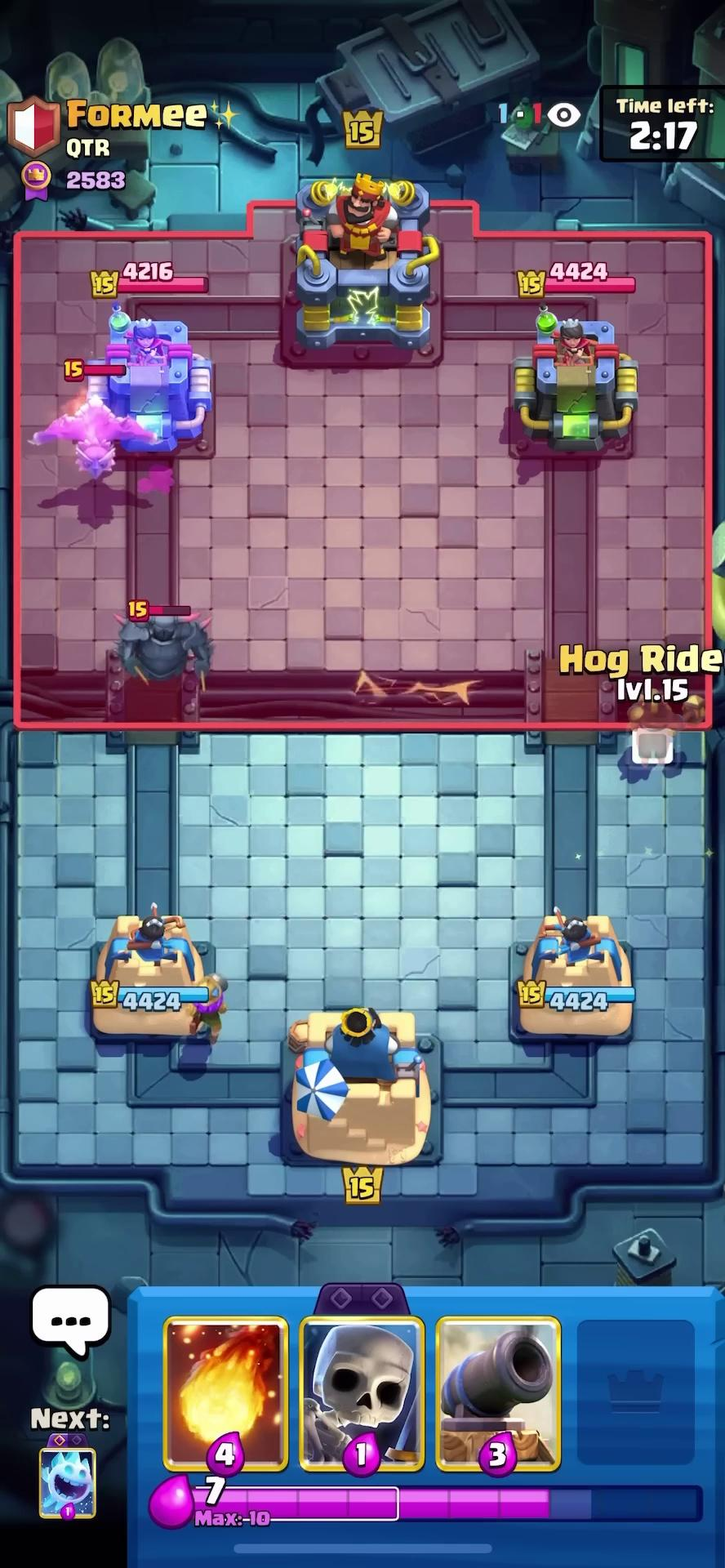musketeer: (165, 956, 245, 1041)
